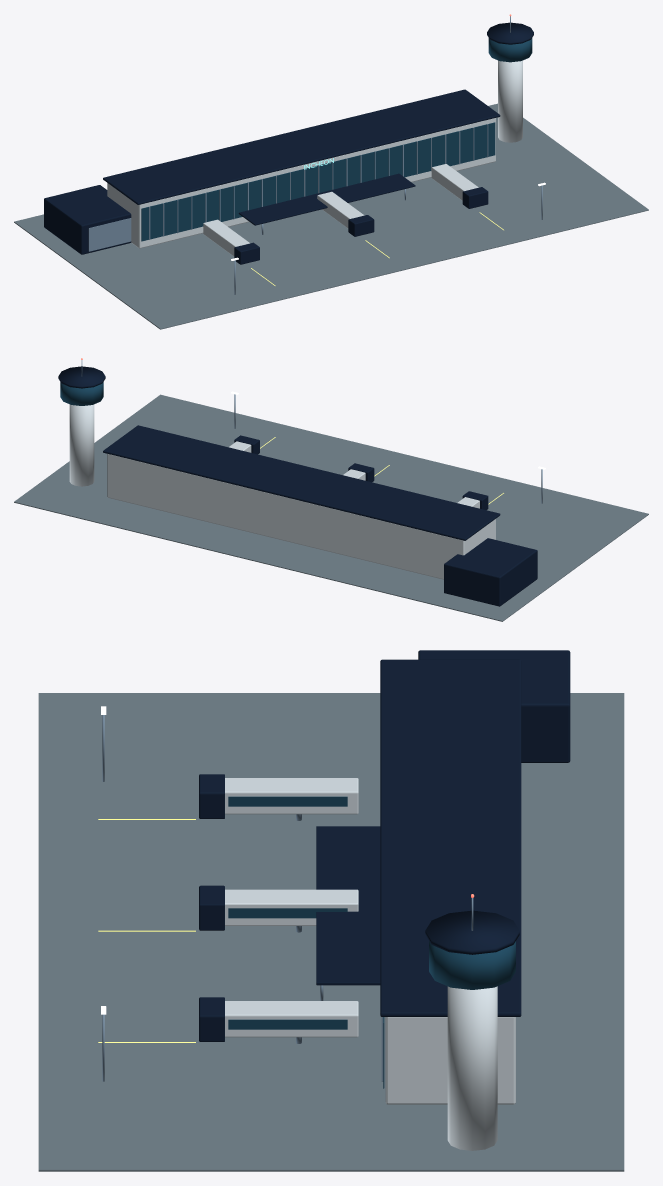
The model's file is airport_incheon.glb.
3 views of the same model, one above another, from view 1: azimuth 30°, elevation 25°; view 2: azimuth 150°, elevation 25°; view 3: azimuth 270°, elevation 25° (orthographic). The views are drawn at different scales.
Parts seen in each view (by area): view 1: Apron, TerminalRoof, TerminalGlazing, TerminalCore, ServiceHangar, EntranceCanopy, TowerShaft, HangarDoor, JetBridge2, JetBridge0, TowerCap, TowerCabin (+4 smaller); view 2: Apron, TerminalCore, TerminalRoof, ServiceHangar, TowerShaft, TowerCap, TowerCabin; view 3: Apron, TerminalRoof, EntranceCanopy, TowerShaft, TerminalCore, ServiceHangar, JetBridge0, JetBridge2, JetBridge1, TowerCap, TowerCabin, JetBridgeGlass0 (+5 smaller).
Part boxes in pixels (x1,y1,x2,y2): Apron: [14, 103, 648, 329]; TerminalRoof: [103, 89, 500, 204]; TerminalGlazing: [141, 122, 495, 241]; TerminalCore: [107, 118, 495, 248]; ServiceHangar: [44, 185, 131, 254]; EntranceCanopy: [238, 173, 415, 225]; TowerShaft: [498, 60, 522, 142]; HangarDoor: [88, 218, 131, 251]; JetBridge2: [431, 164, 478, 200]; JetBridge0: [203, 219, 249, 256]; TowerCap: [487, 22, 533, 44]; TowerCabin: [488, 38, 532, 62]; Apron: [14, 394, 648, 621]; TerminalCore: [107, 454, 495, 579]; TerminalRoof: [103, 425, 500, 540]; ServiceHangar: [444, 538, 537, 606]; TowerShaft: [69, 404, 94, 486]; TowerCap: [58, 366, 105, 388]; TowerCabin: [60, 382, 103, 405]; Apron: [38, 693, 624, 1171]; TerminalRoof: [380, 659, 521, 1016]; EntranceCanopy: [316, 826, 380, 985]; TowerShaft: [447, 986, 497, 1150]; TerminalCore: [385, 1017, 515, 1104]; ServiceHangar: [418, 650, 570, 762]; JetBridge0: [225, 778, 358, 814]; JetBridge2: [225, 1001, 358, 1037]; JetBridge1: [225, 889, 358, 925]; TowerCap: [425, 910, 519, 954]; TowerCabin: [429, 941, 515, 989]; JetBridgeGlass0: [228, 796, 347, 806].
Bounding box in the file's own units: 104 × 25.25 × 54.
